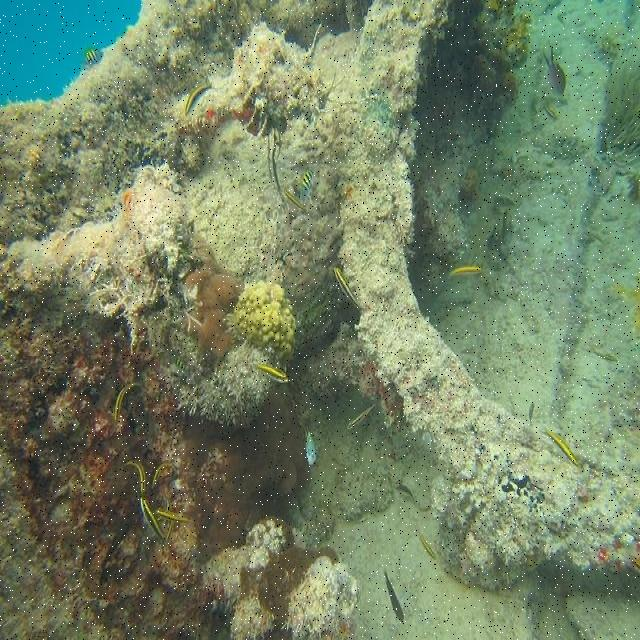aquatic plants: (9, 165, 285, 428), (601, 22, 639, 176)
fish: (333, 266, 362, 312), (545, 430, 580, 468), (140, 495, 167, 542), (544, 45, 568, 97), (186, 84, 212, 114), (124, 459, 145, 495), (115, 382, 134, 421), (305, 426, 320, 469), (255, 364, 289, 382), (150, 461, 173, 487), (156, 507, 191, 523), (301, 171, 314, 206), (449, 264, 483, 277), (81, 48, 102, 66)
reefs: (235, 282, 295, 368)
